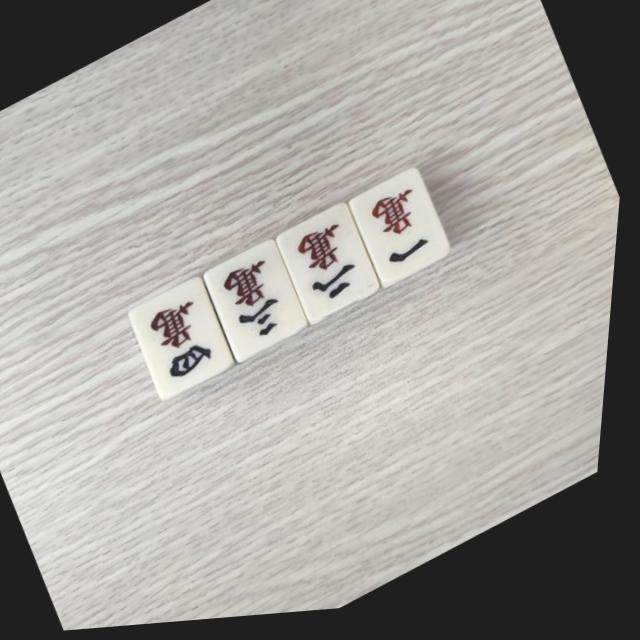sc1: (356, 180, 453, 289)
sc2: (282, 214, 381, 326)
sc3: (210, 249, 310, 361)
sc4: (138, 287, 236, 399)
